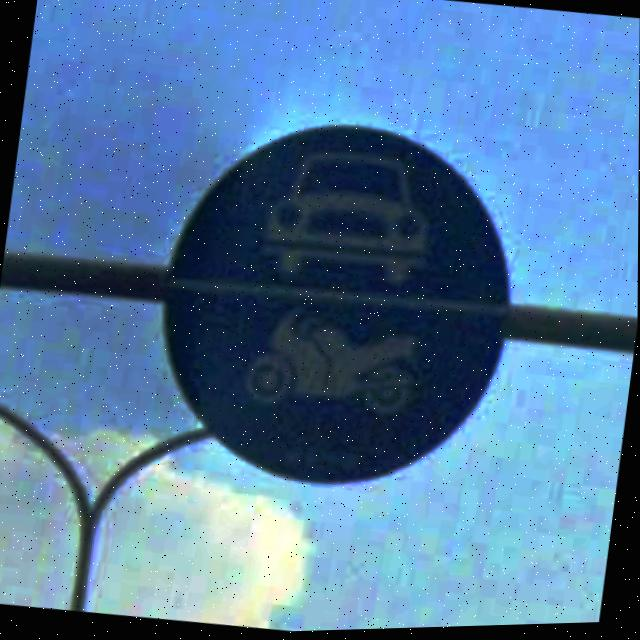carmotorcycle: (136, 98, 534, 510)
